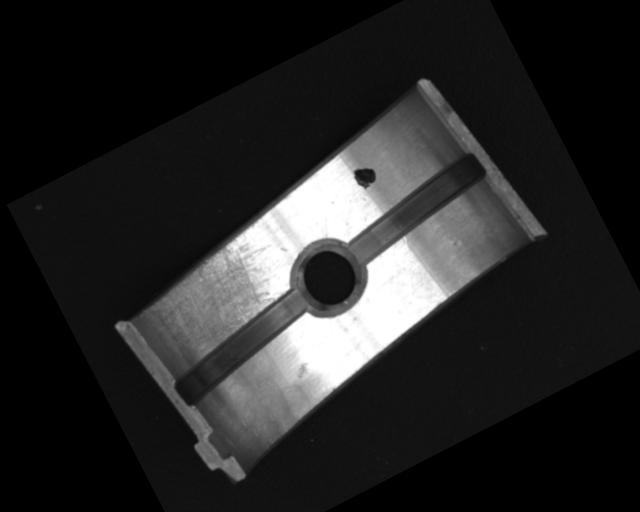blot: (350, 161, 380, 192)
bruise: (291, 360, 313, 381)
gap: (157, 281, 332, 411), (334, 148, 500, 268)
hole: (285, 232, 373, 323)
nick: (387, 234, 432, 295), (311, 205, 339, 240)
scratch: (120, 213, 305, 377)
